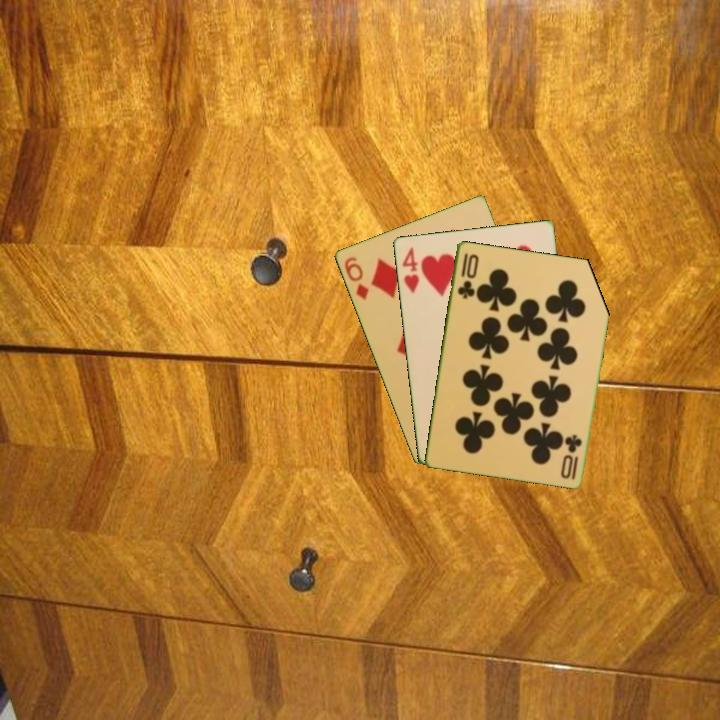10c: (454, 249, 481, 301), (558, 431, 584, 482)
4h: (398, 243, 422, 296)
6d: (340, 253, 372, 303)
